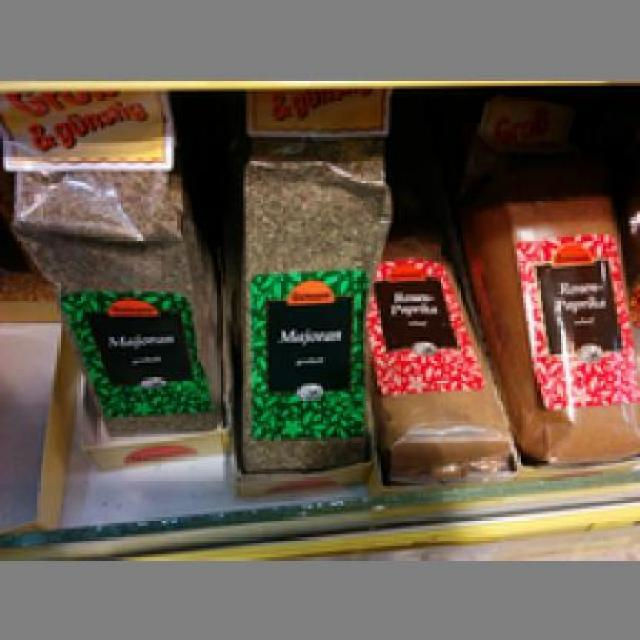Spices: (231, 91, 386, 472), (8, 162, 221, 428), (468, 143, 638, 463), (368, 217, 512, 472)
